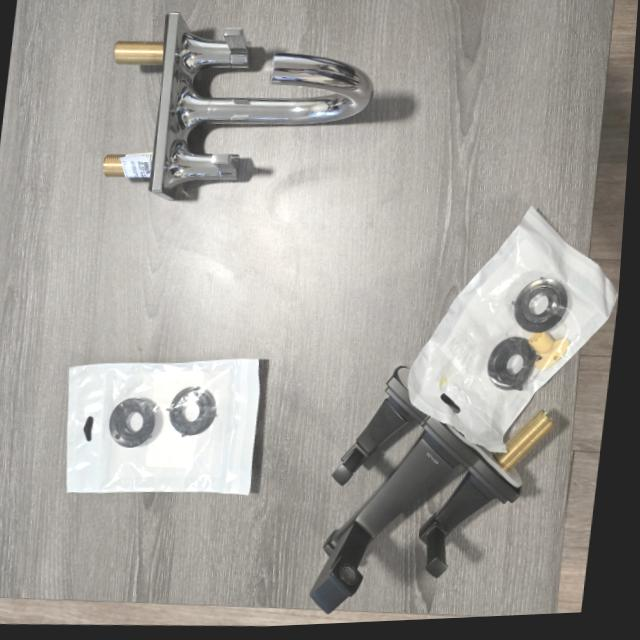10: (102, 11, 372, 199)
12: (407, 207, 616, 451)
13: (66, 358, 259, 494)
9o: (309, 366, 554, 612)
